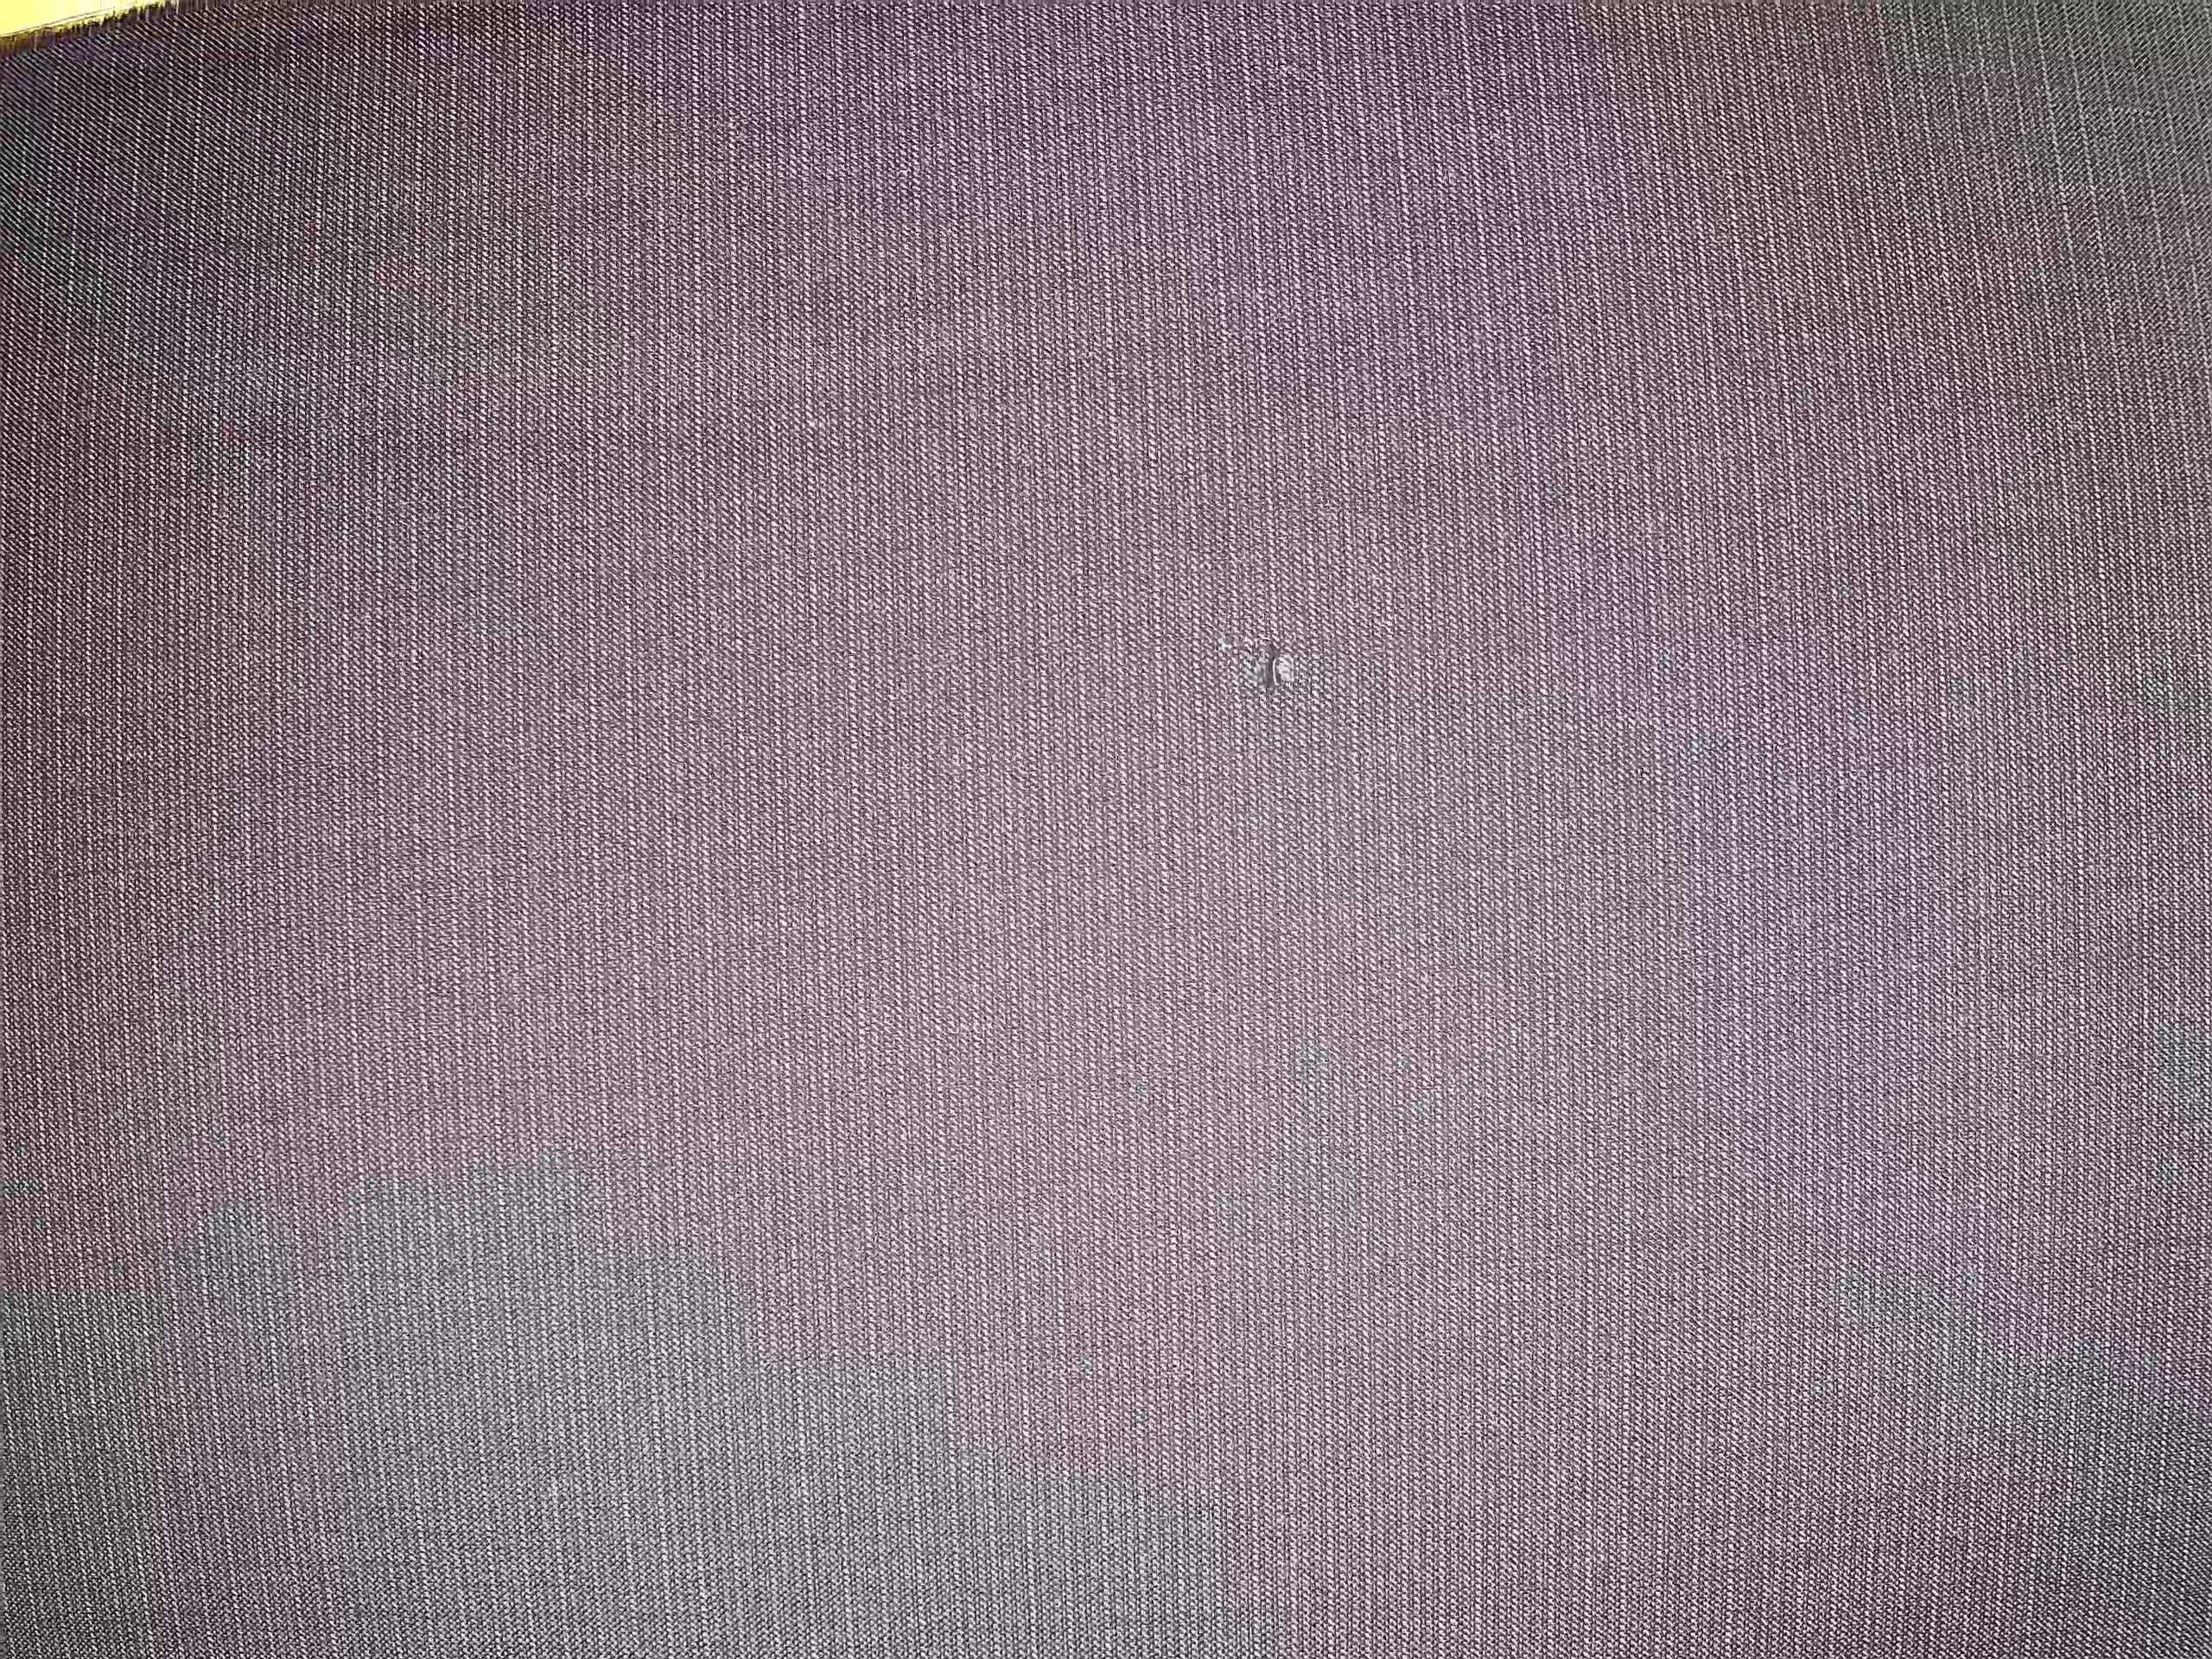rubbing-hole: (1214, 605, 1327, 721)
